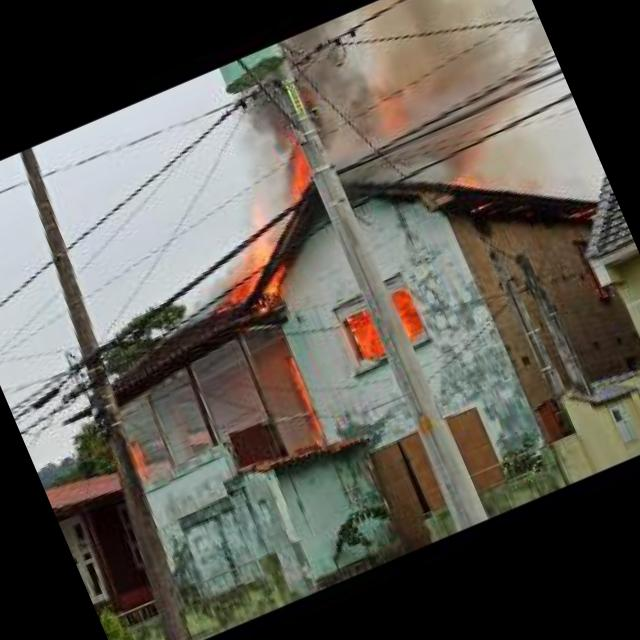fire: (178, 202, 310, 334), (281, 354, 328, 441), (272, 142, 318, 203), (340, 306, 388, 362), (388, 285, 426, 340), (447, 166, 482, 194)
smoke: (204, 0, 555, 237)
